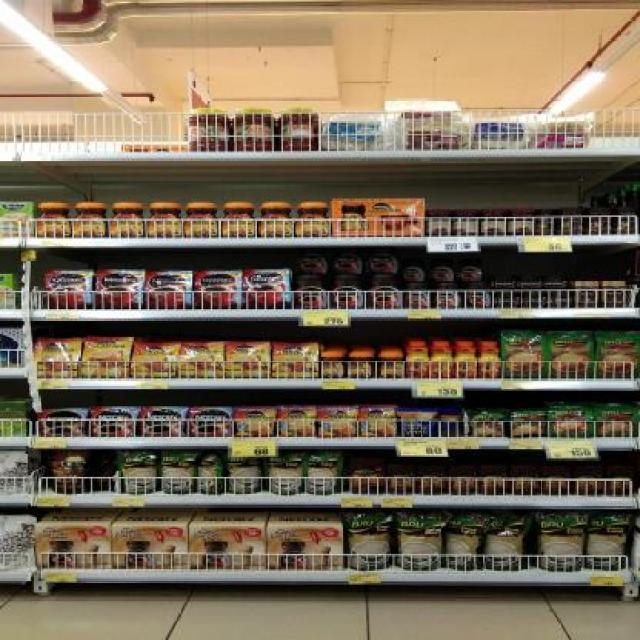Coffee: (43, 269, 95, 310), (82, 336, 130, 378), (146, 270, 193, 310), (195, 270, 243, 309), (243, 270, 291, 309), (97, 270, 143, 310), (35, 337, 79, 378), (272, 343, 319, 379), (132, 343, 178, 379), (226, 342, 270, 378), (180, 342, 223, 378), (91, 406, 138, 437), (139, 407, 187, 437), (38, 409, 89, 437), (36, 202, 72, 238), (221, 202, 257, 238), (110, 202, 146, 238), (190, 407, 233, 437), (235, 406, 276, 437), (293, 276, 330, 310), (296, 202, 330, 238), (74, 202, 108, 238), (185, 202, 219, 238), (259, 202, 293, 238), (147, 202, 181, 238), (319, 406, 358, 437), (360, 406, 398, 437), (278, 406, 316, 437), (332, 276, 366, 310), (368, 275, 401, 309), (295, 248, 329, 275), (331, 248, 364, 275), (406, 342, 429, 379), (480, 342, 503, 379), (403, 283, 434, 310), (432, 341, 454, 379), (455, 341, 477, 379), (367, 247, 399, 273), (575, 280, 601, 308), (465, 283, 493, 309), (435, 283, 462, 309), (320, 351, 346, 378), (348, 353, 375, 379), (377, 353, 403, 379), (602, 280, 626, 308), (401, 260, 429, 282), (431, 260, 457, 283), (459, 260, 486, 282), (495, 292, 521, 309), (524, 292, 548, 309), (550, 292, 572, 309), (544, 276, 570, 290), (492, 276, 518, 290), (520, 276, 543, 290)
